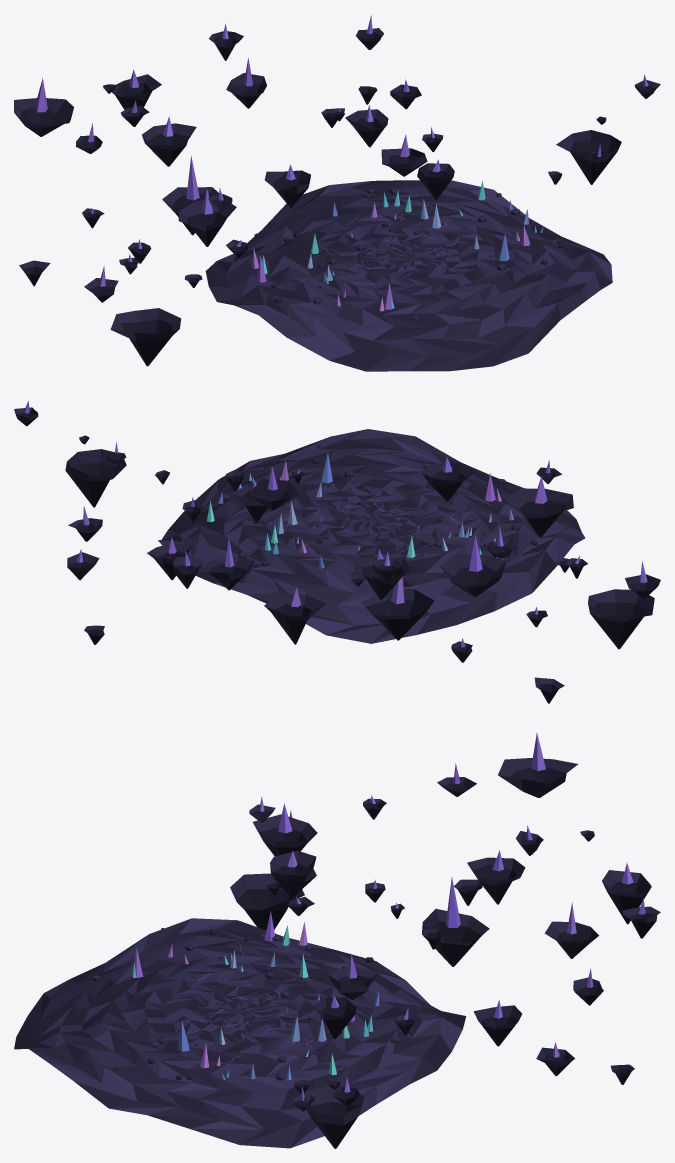
File: env_limit.glb
3 renders of one model, top to bottom at view 1: azimuth 30°, elevation 25°; view 2: azimuth 150°, elevation 25°; view 3: azimuth 270°, elevation 25°, orthographic. The views are drawn at different scales.
Parts seen in each view (by area): view 1: limit, limit_glowing; view 2: limit, limit_glowing; view 3: limit, limit_glowing.
Boxes of the visible parts, box(x1,y1,x2,y2) form: limit: box(14, 28, 660, 371); limit_glowing: box(34, 15, 648, 311); limit: box(14, 407, 660, 703); limit_glowing: box(24, 400, 647, 647); limit: box(14, 758, 660, 1148); limit_glowing: box(132, 733, 645, 1100).
Bounding box in the file's own units: 74.18 × 23.24 × 62.88.
